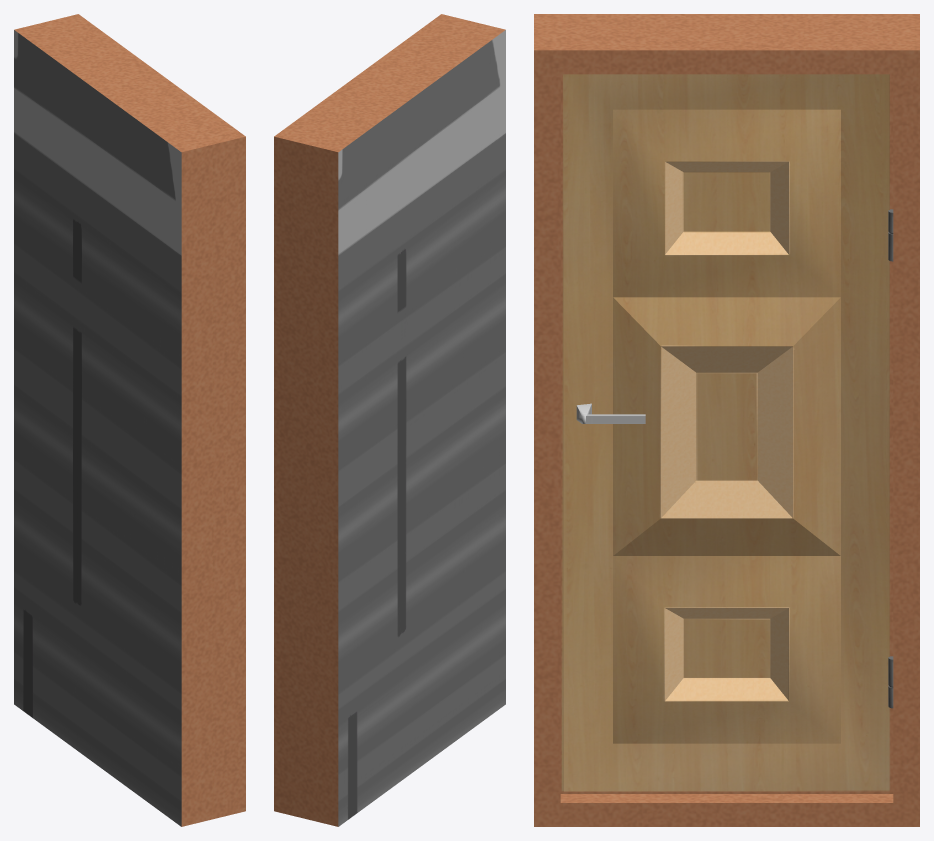
File: deur.fbx
3 views of the same model, side by side, from view 1: azimuth 30°, elevation 25°; view 2: azimuth 150°, elevation 25°; view 3: azimuth 270°, elevation 25° (orthographic). The views are drawn at different scales.
Parts seen in each view (by area): view 1: deur; view 2: deur; view 3: deur, hendel.
Part boxes in pixels (x1,y1,x2,y2): deur: [14, 14, 245, 826]; deur: [274, 14, 505, 826]; deur: [534, 14, 919, 826]; hendel: [576, 403, 645, 423].
Size of the model in its own units: 20.1 by 201 by 90.45.
2 materials, 2 textured.
